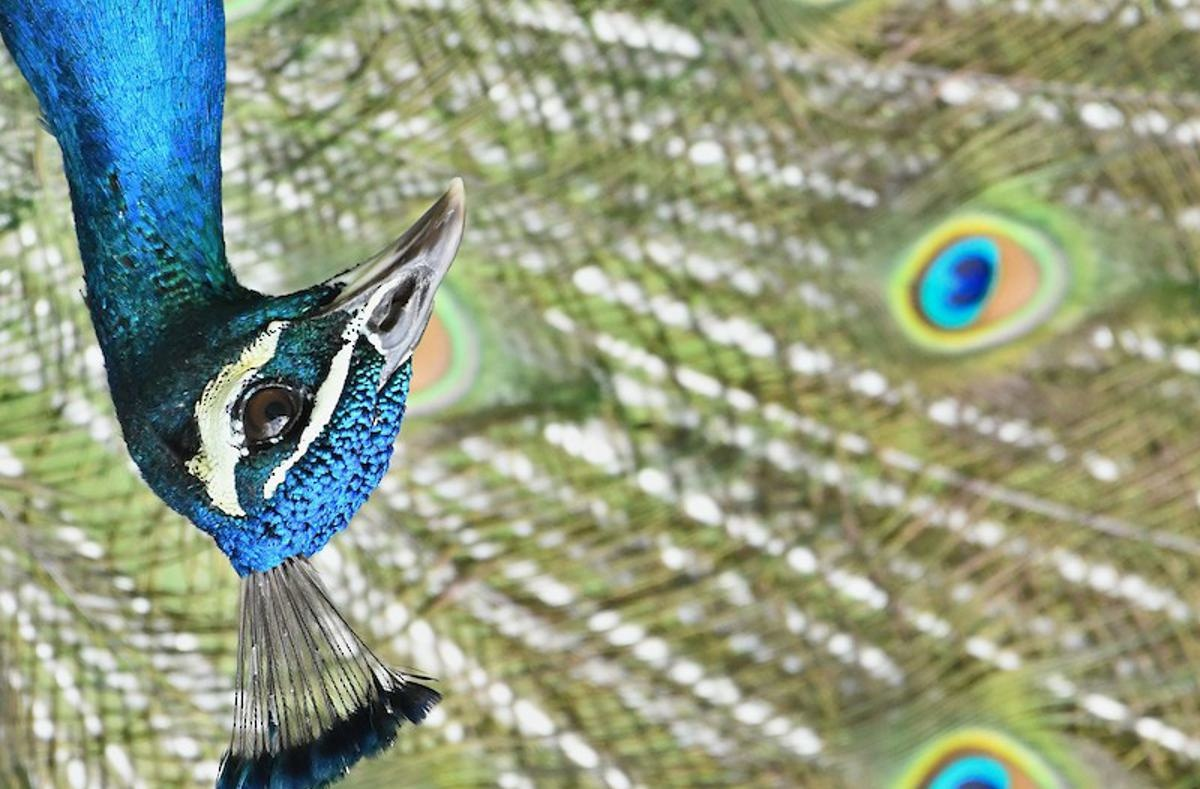peacock: (1, 1, 1116, 754)
